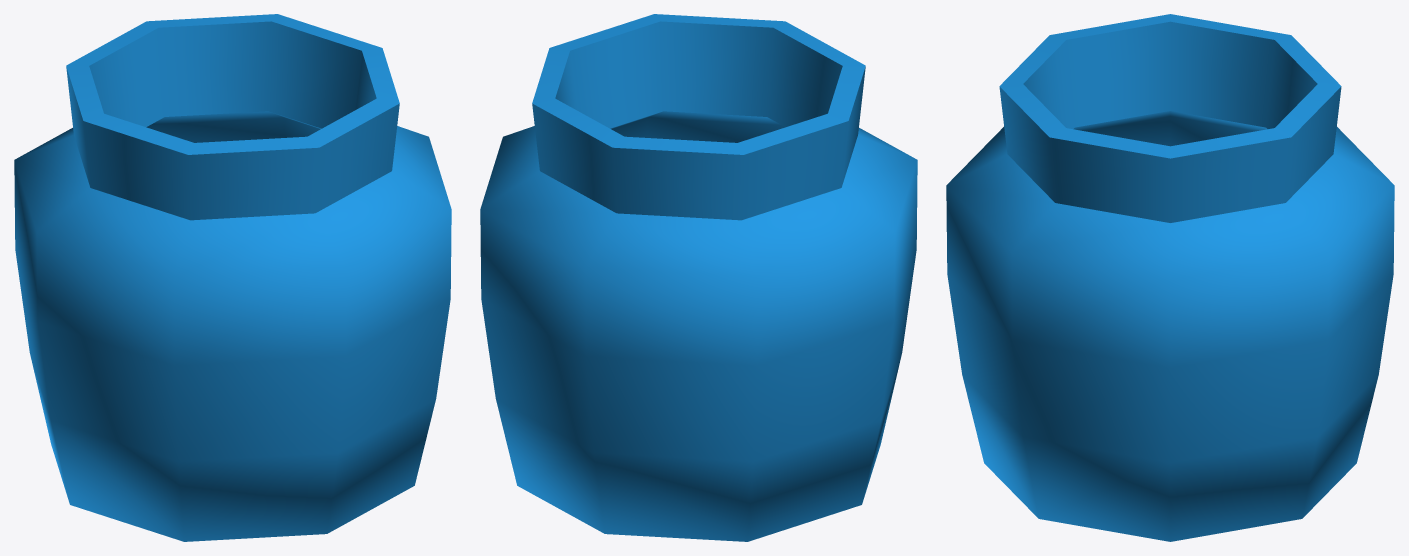
Rendered from SE_Jar_03_SM.FBX.
3 renders of one model, left to right at view 1: azimuth 30°, elevation 25°; view 2: azimuth 150°, elevation 25°; view 3: azimuth 270°, elevation 25°, orthographic.
Parts seen in each view (by area): view 1: SE_Jar_03_SM_LOD0; view 2: SE_Jar_03_SM_LOD0; view 3: SE_Jar_03_SM_LOD0.
Part boxes in pixels (bbox=[...]): SE_Jar_03_SM_LOD0: bbox=[14, 14, 451, 541]; SE_Jar_03_SM_LOD0: bbox=[480, 14, 917, 541]; SE_Jar_03_SM_LOD0: bbox=[946, 14, 1394, 541].
Size of what is drawn, in the model's own units: 103 by 103 by 96.59.
